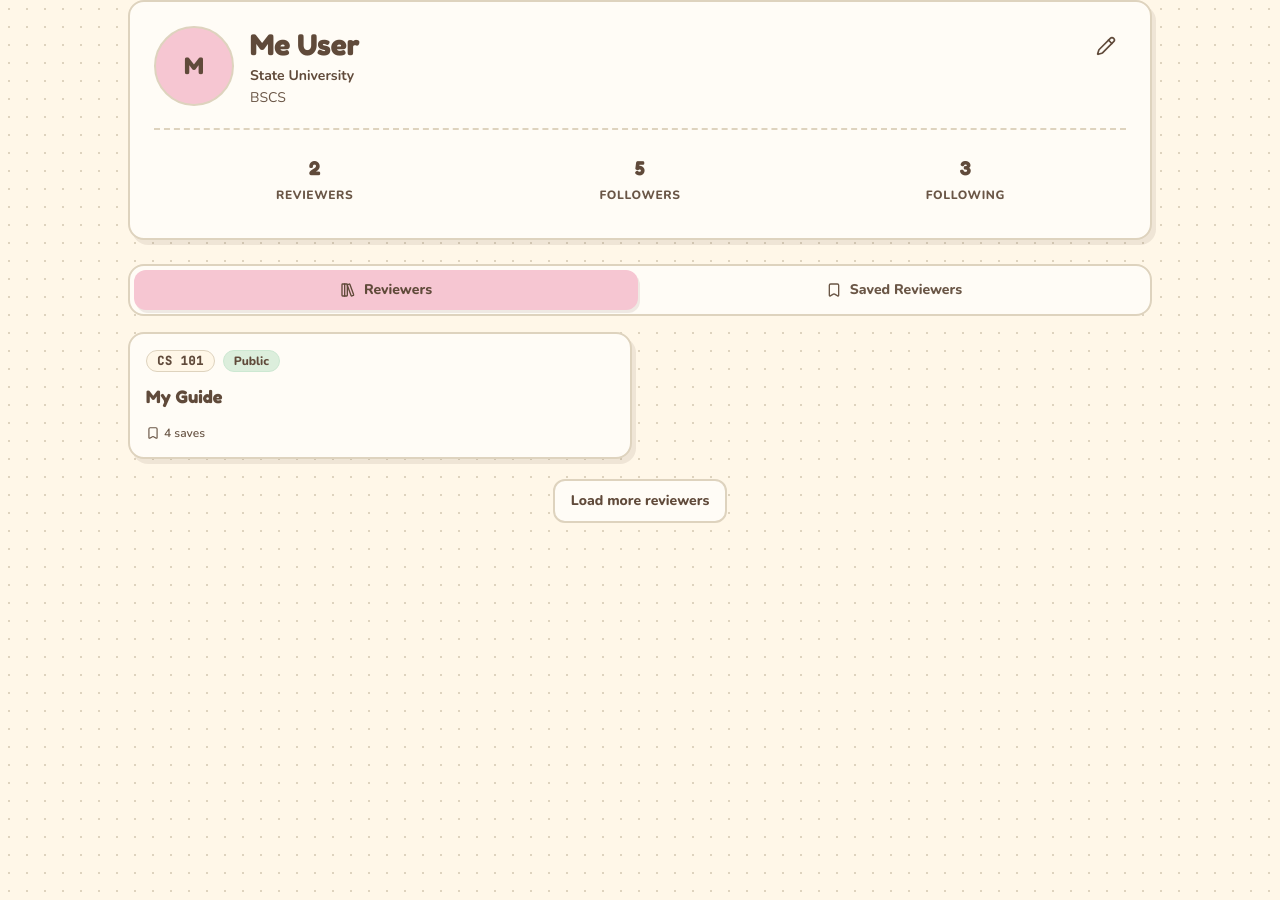
Test: Profile › switches to the Saved Reviewers tab
Expected: the text "My Guide" is shown, x1=146 y1=385 x2=222 y2=407
Click the tab "Saved Reviewers" at [894, 290], box x1=642 y1=270 x2=1146 y2=310
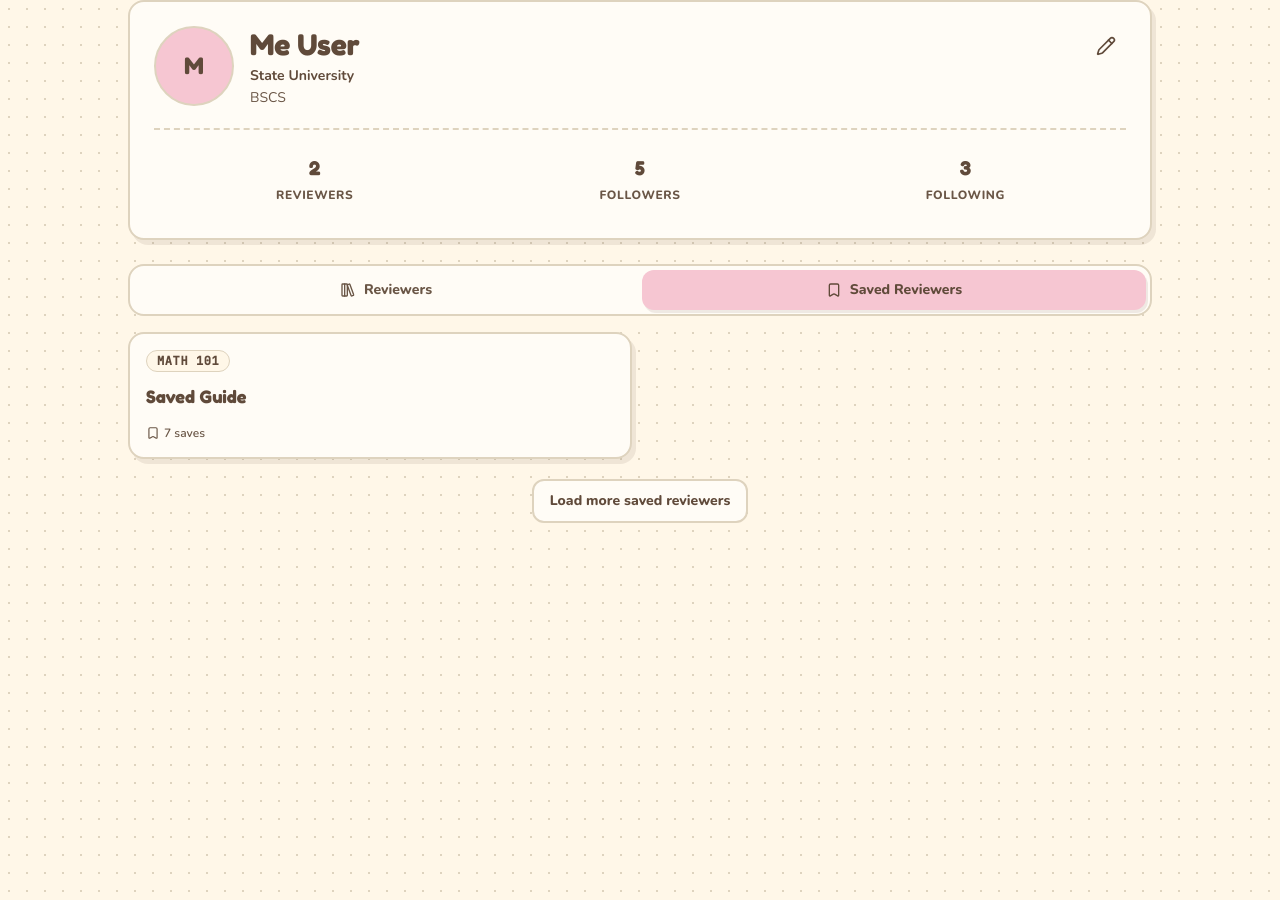
Result: the text "Saved Guide" is shown at x1=146 y1=385 x2=246 y2=407
Result: the link "My Guide" is gone
